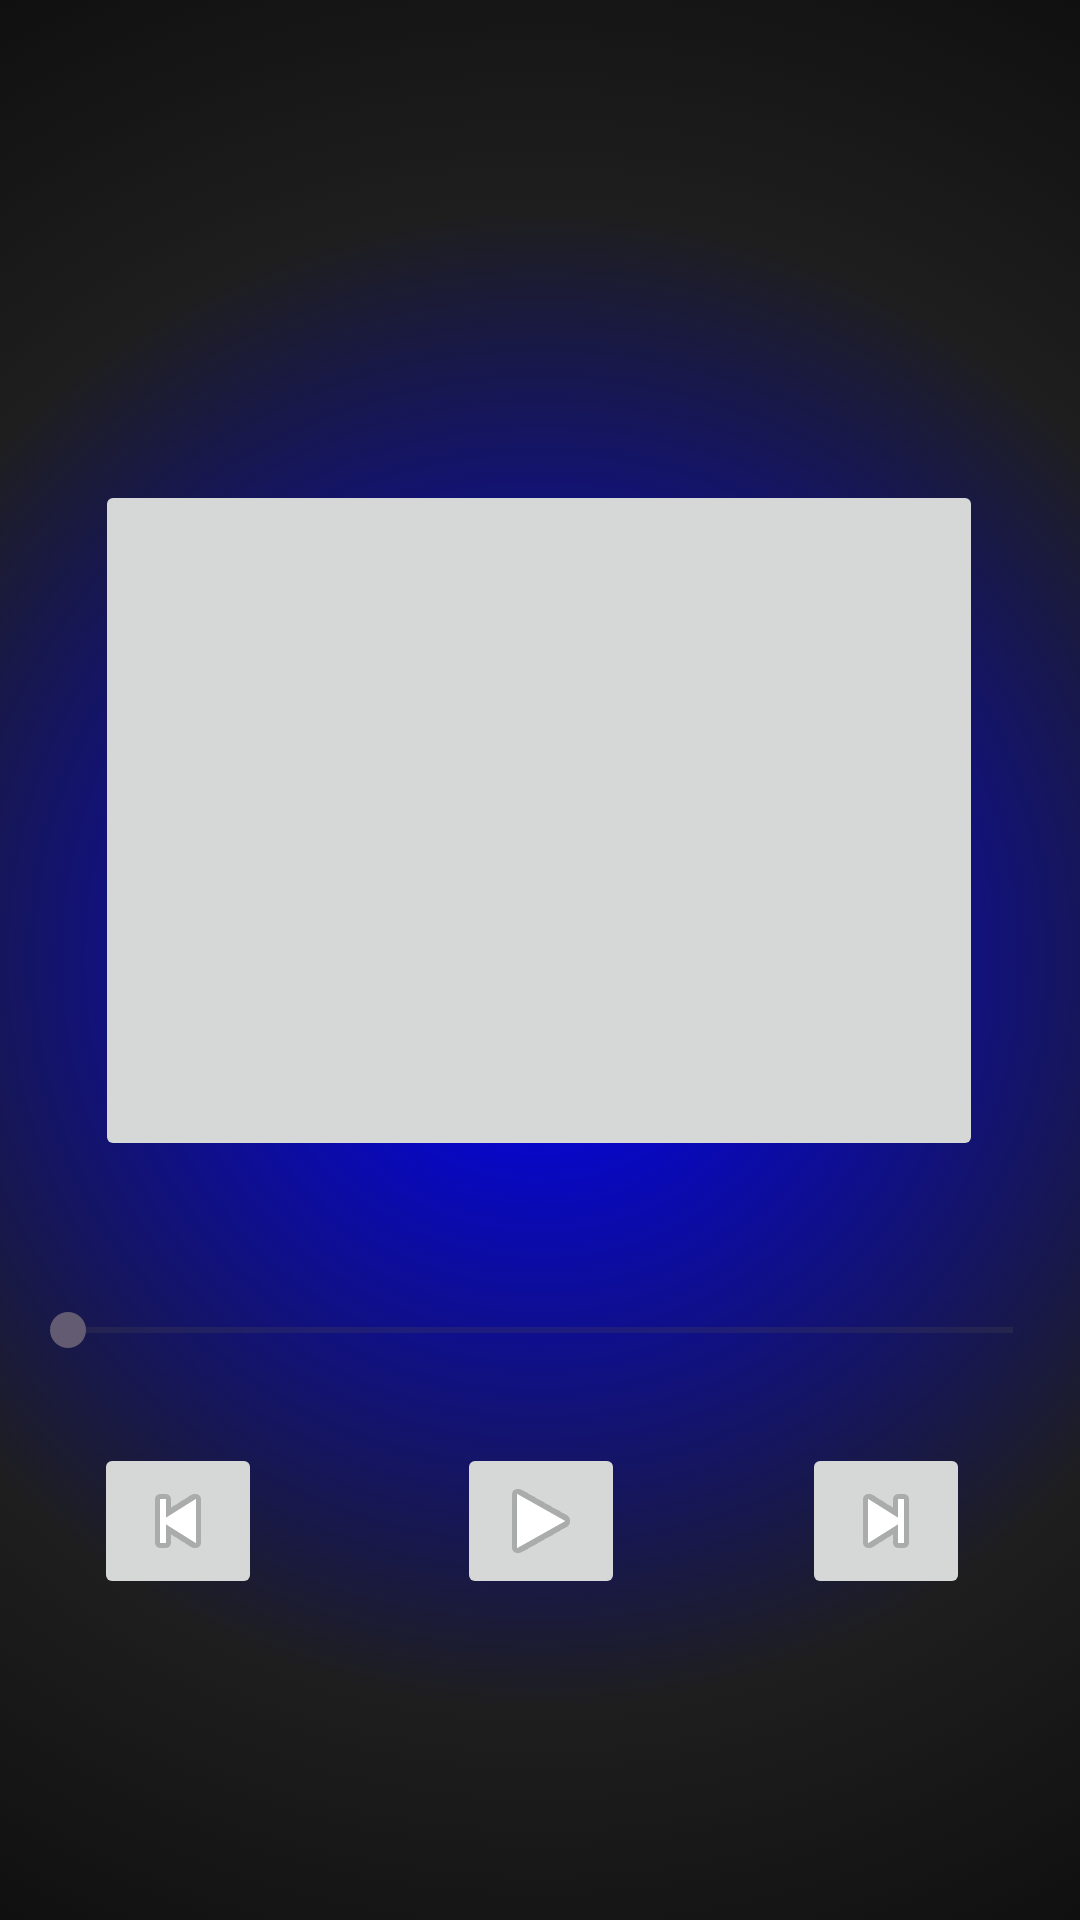

Where to tap for icons on this 1080×1920 app screen, as (x=x, y=y):
Next song button: (x=880, y=1512)
Play button: (x=541, y=1521)
Previous song button: (x=178, y=1521)
